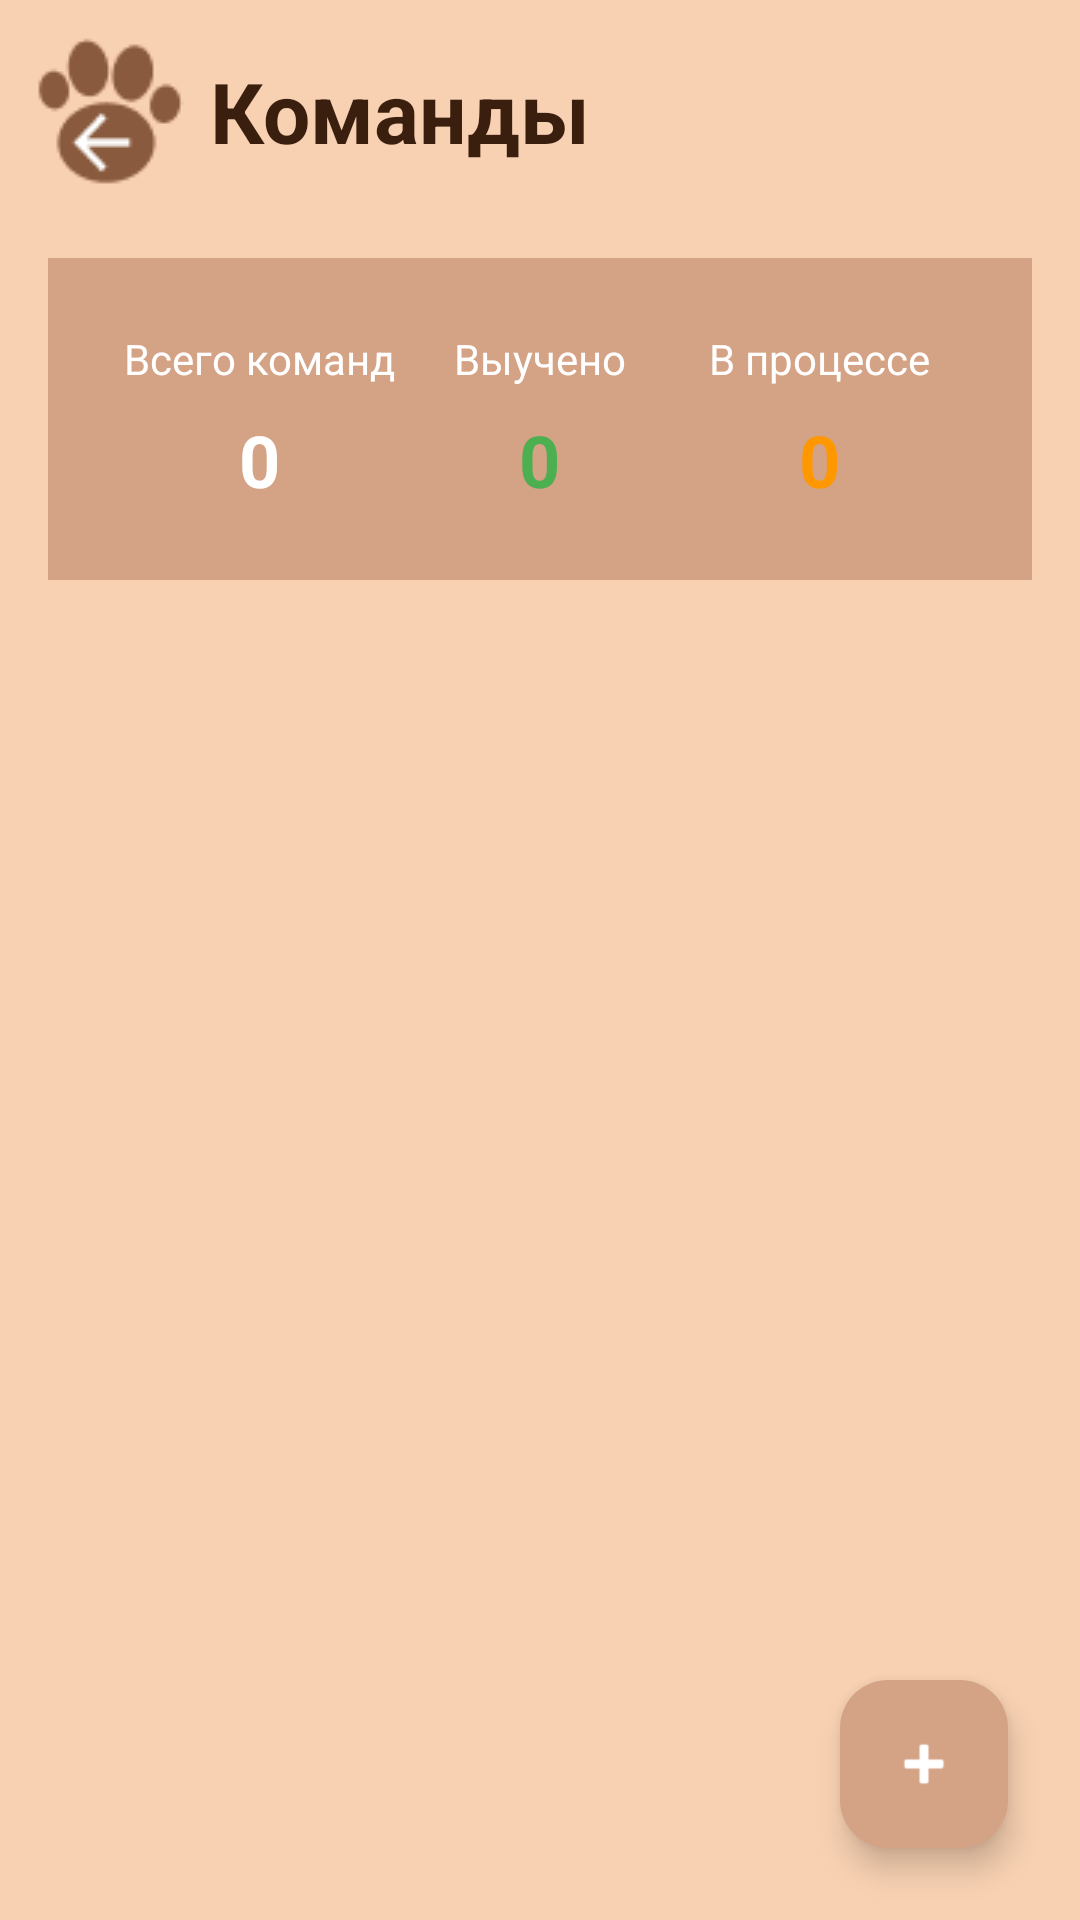

Where icons sit on this 1080 × 1920 app screen, as {"left": x1, "top": y1, "right": x2, "bottom": y2}:
back: {"left": 38, "top": 39, "right": 181, "bottom": 184}
Добавить команду: {"left": 840, "top": 1680, "right": 1008, "bottom": 1848}
